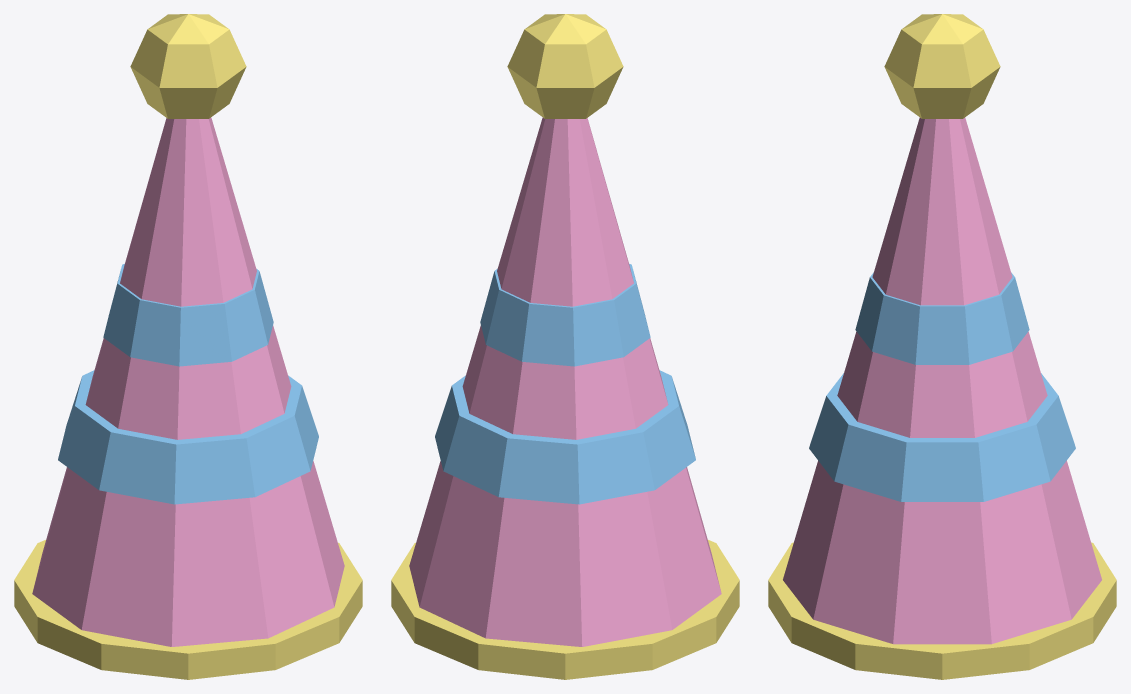
File: CF_HatParty.fbx
3 views of the same model, side by side, from view 1: azimuth 30°, elevation 25°; view 2: azimuth 150°, elevation 25°; view 3: azimuth 270°, elevation 25° (orthographic).
Parts seen in each view (by area): view 1: CF_HatParty_Cone, CF_HatParty_Stripe, CF_HatParty_Brim; view 2: CF_HatParty_Cone, CF_HatParty_Stripe, CF_HatParty_Brim; view 3: CF_HatParty_Cone, CF_HatParty_Stripe, CF_HatParty_Brim.
Part boxes in pixels (x1=…): CF_HatParty_Cone: x1=32, y1=117, x2=344, y2=646; CF_HatParty_Stripe: x1=58, y1=263, x2=318, y2=504; CF_HatParty_Brim: x1=14, y1=14, x2=362, y2=679; CF_HatParty_Cone: x1=409, y1=117, x2=721, y2=646; CF_HatParty_Stripe: x1=435, y1=263, x2=695, y2=504; CF_HatParty_Brim: x1=391, y1=14, x2=739, y2=679; CF_HatParty_Cone: x1=783, y1=117, x2=1101, y2=644; CF_HatParty_Stripe: x1=809, y1=272, x2=1075, y2=501; CF_HatParty_Brim: x1=768, y1=14, x2=1116, y2=679.
Size of the model in its own units: 1.2 by 2.25 by 1.2.
